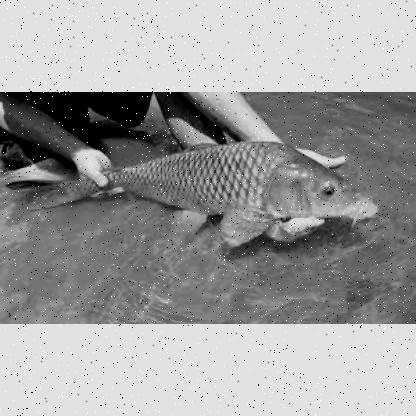ikan-mas: (55, 138, 377, 224)
